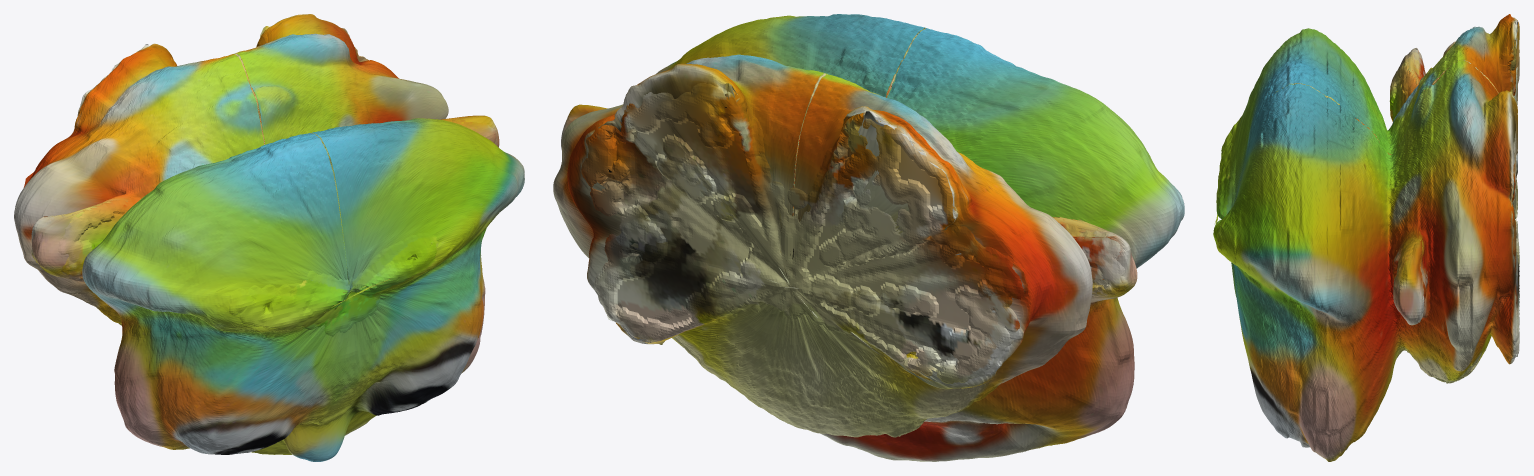
Rendered from mesh_inpaint.glb.
3 views of the same model, side by side, from view 1: azimuth 30°, elevation 25°; view 2: azimuth 150°, elevation 25°; view 3: azimuth 270°, elevation 25° (orthographic). The views are drawn at different scales.
Parts seen in each view (by area): view 1: ipn, fill; view 2: ipn, fill; view 3: ipn, fill.
Boxes of the visible parts, bbox=[...] form: ipn: bbox=[14, 14, 524, 461]; fill: bbox=[29, 29, 496, 337]; ipn: bbox=[553, 14, 1184, 461]; fill: bbox=[581, 83, 1128, 383]; ipn: bbox=[1215, 14, 1517, 461]; fill: bbox=[1213, 17, 1519, 357].
Size of the model in its own units: 1.97 by 1.49 by 1.1.
Materials: 2 (1 with a texture image).
